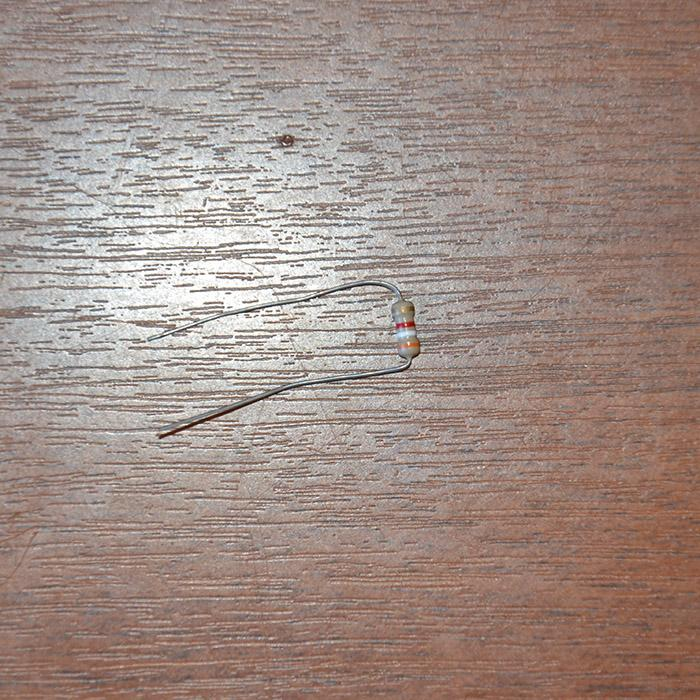resistor: (389, 298, 420, 360)
